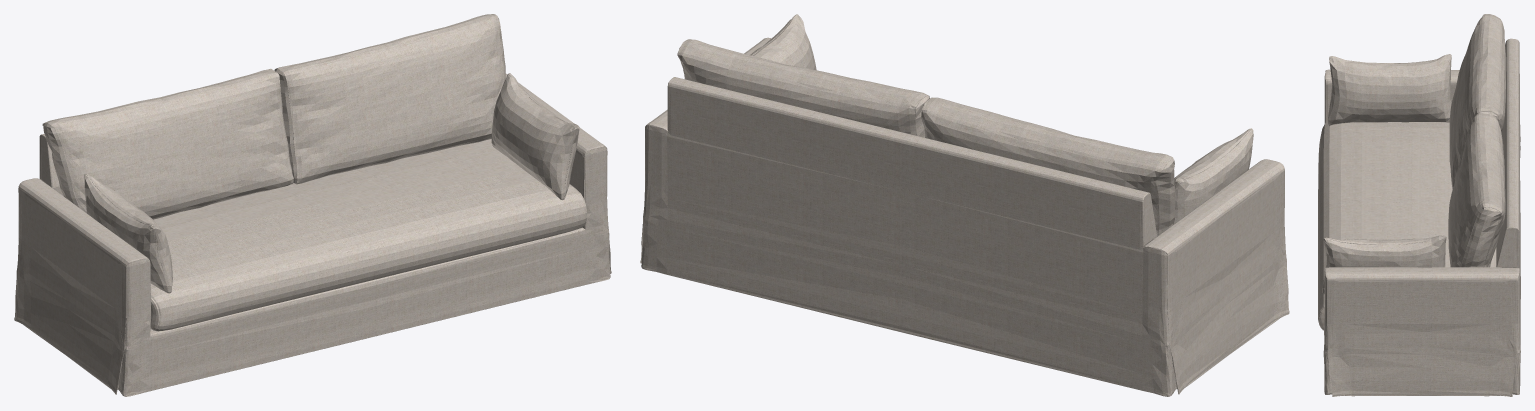
3 renders of one model, left to right at view 1: azimuth 30°, elevation 25°; view 2: azimuth 150°, elevation 25°; view 3: azimuth 270°, elevation 25°, orthographic. The views are drawn at different scales.
Visible parts, largest first — view 1: Mesh_0; view 2: Mesh_0; view 3: Mesh_0.
Boxes of the visible parts, bbox=[...] form: Mesh_0: bbox=[14, 14, 611, 396]; Mesh_0: bbox=[640, 14, 1289, 396]; Mesh_0: bbox=[1318, 14, 1520, 396].
Size of the model in its own units: 2.32 by 0.91 by 0.9299.
1 material, 1 textured.
